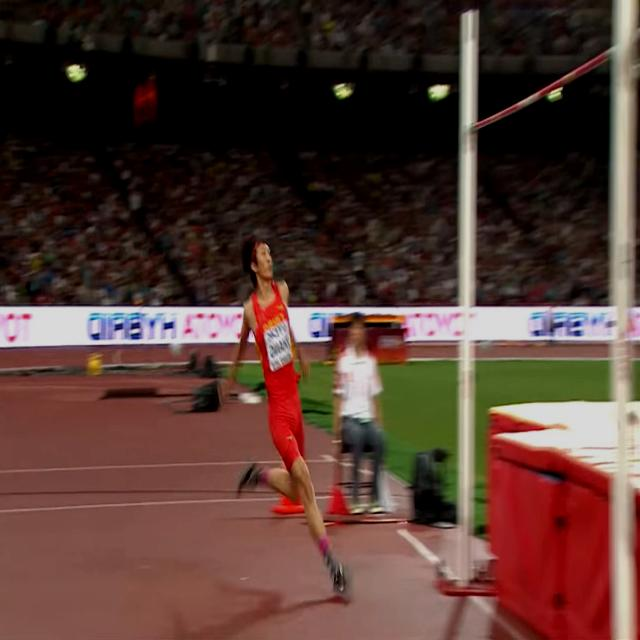run: (230, 232, 354, 606)
